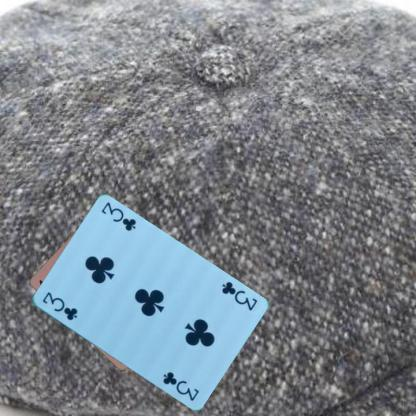3c: (218, 278, 258, 312), (39, 289, 79, 322)
